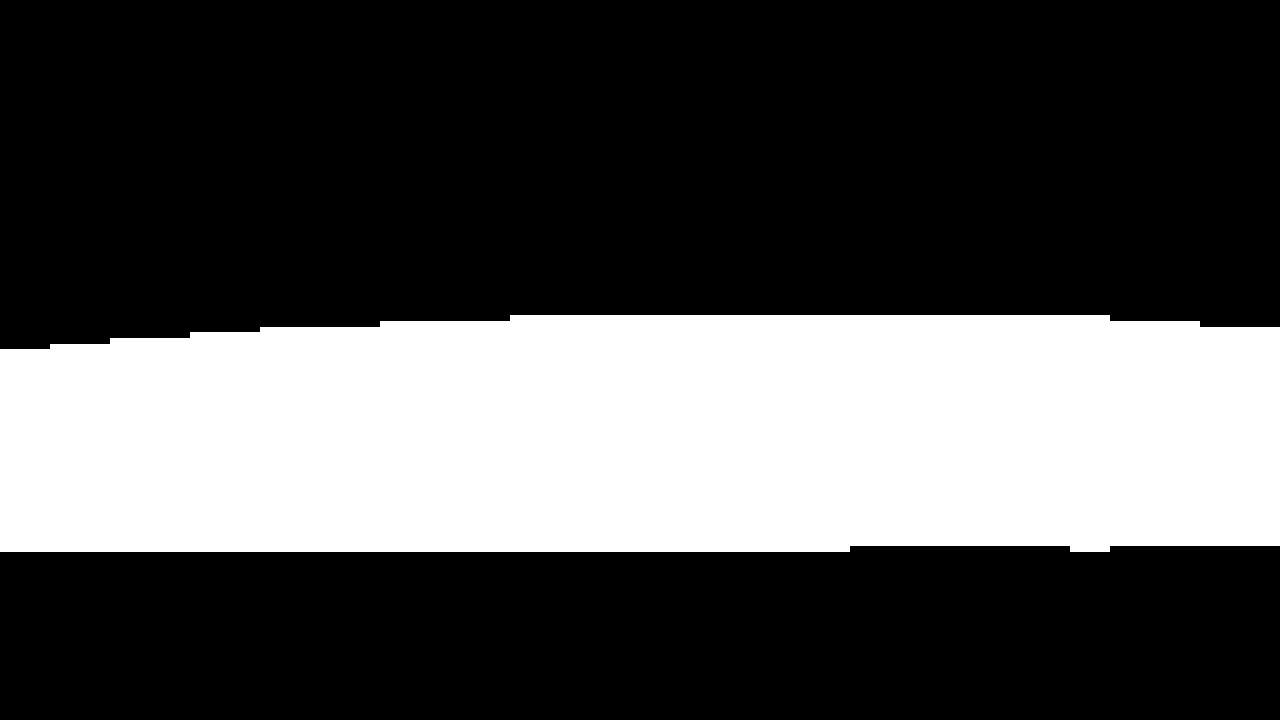Turbine: (0, 304, 1274, 570)
